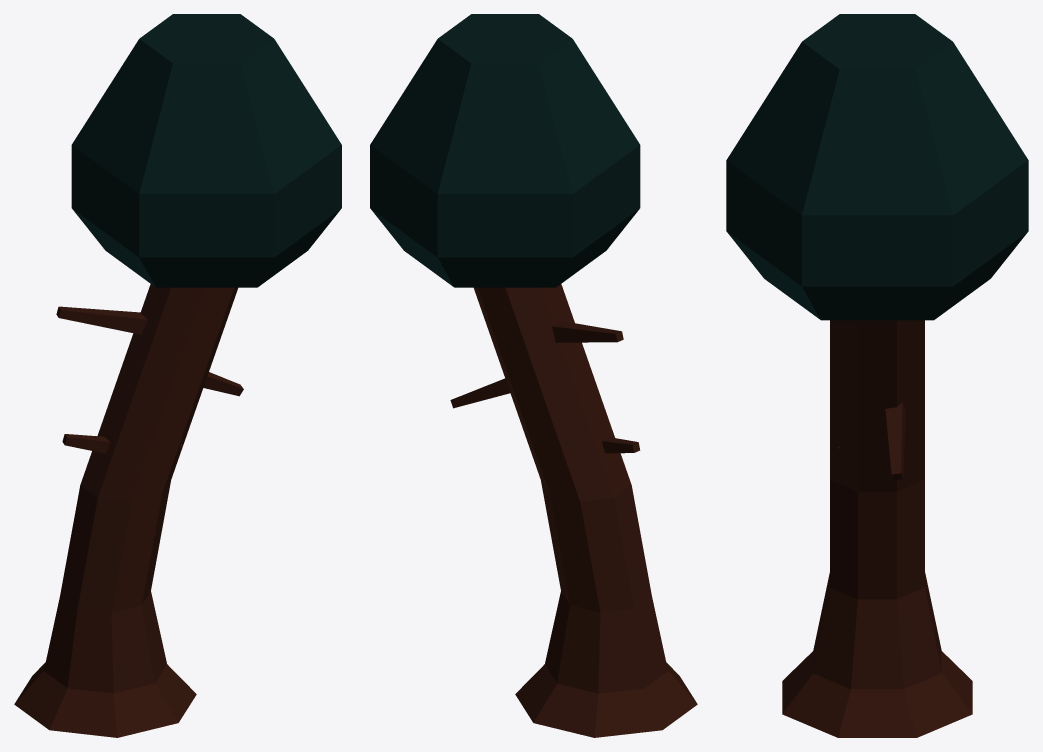
File: Tree5.fbx
3 renders of one model, left to right at view 1: azimuth 30°, elevation 25°; view 2: azimuth 150°, elevation 25°; view 3: azimuth 270°, elevation 25°, orthographic. The views are drawn at different scales.
Parts seen in each view (by area): view 1: mergedBlocks; view 2: mergedBlocks; view 3: mergedBlocks.
Part boxes in pixels (<box>): mergedBlocks: <box>14,14,341,737</box>; mergedBlocks: <box>370,14,697,737</box>; mergedBlocks: <box>726,14,1028,737</box>.
Bounding box in the file's own units: 13.64 × 30 × 11.55.
